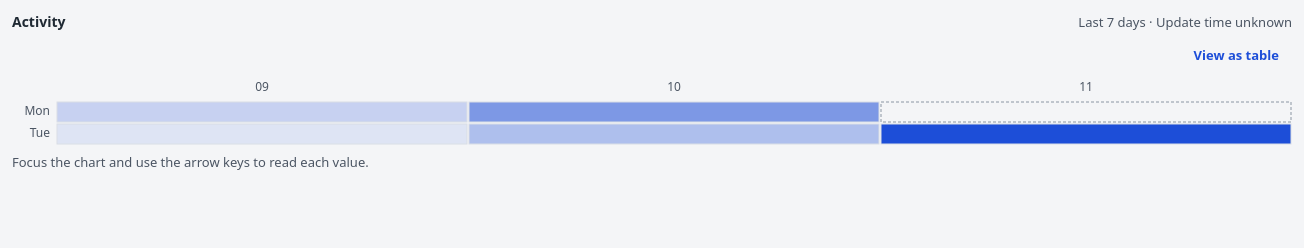
Test: HeatGrid › has a table view and an empty state
Later steps or results of the test are not shown.
Click the button "View as table" at point(1236, 55), box [1181, 39, 1292, 71]
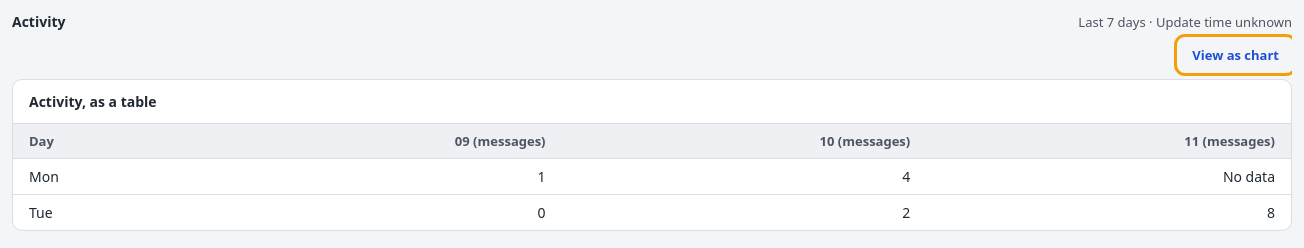
Now the table "Activity, as a table" is shown, box [13, 80, 1291, 230]
